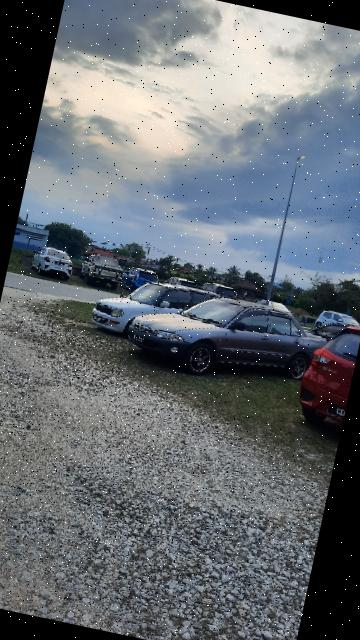License_Plate: (134, 336, 147, 345), (93, 316, 105, 325), (54, 261, 67, 268)
car: (124, 280, 333, 400), (88, 271, 220, 356), (28, 242, 77, 284), (79, 253, 127, 292)
